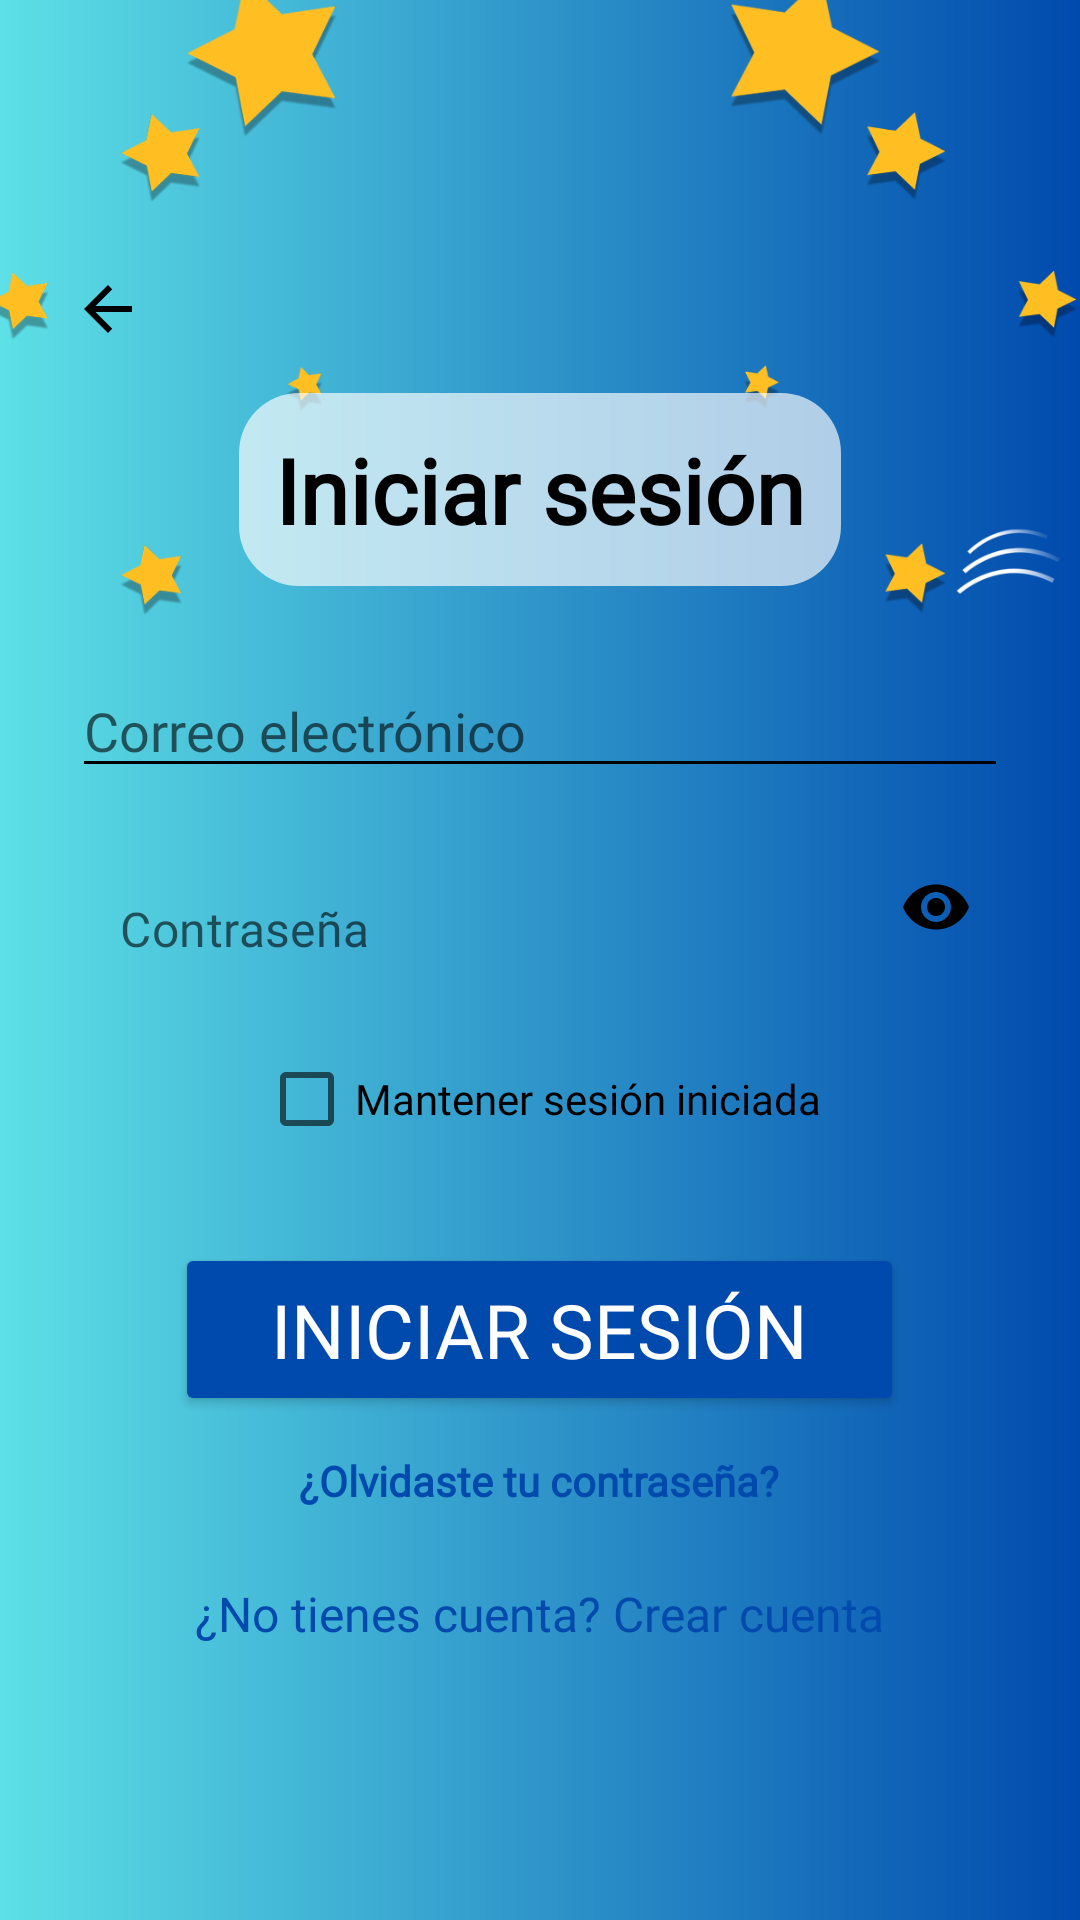

Screen size 1080 x 1920. Icon name, then its center in pixels as [x,y]:
Volver: [108,309]
